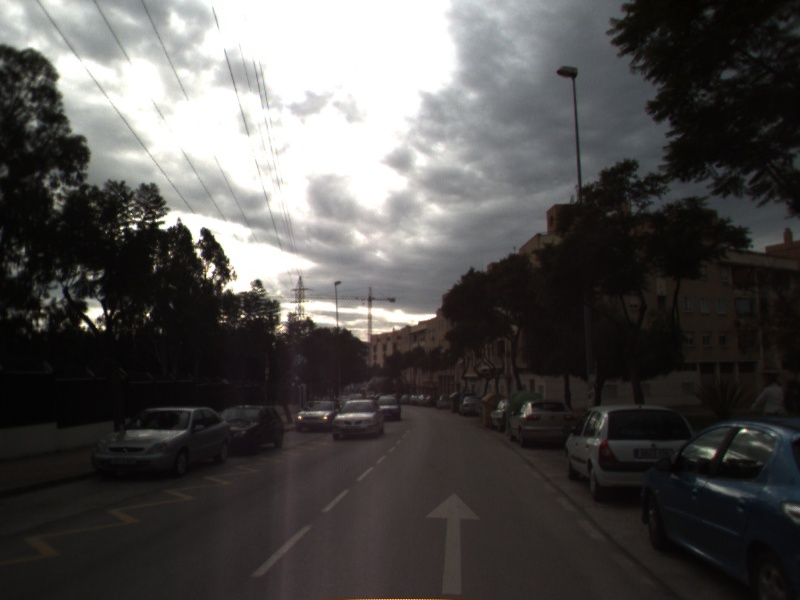STRAIGHT: (423, 491, 484, 596)
